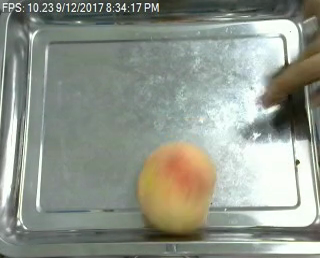Peach: (136, 140, 216, 234)
